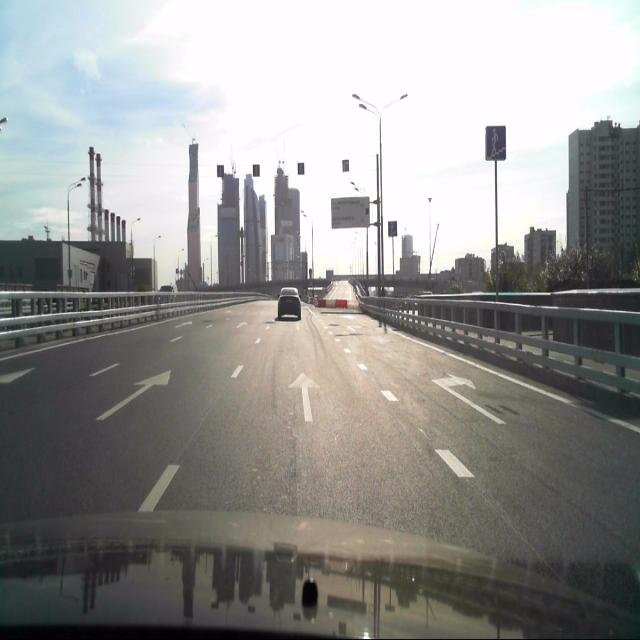road sign: (484, 124, 506, 159), (388, 221, 396, 236)
